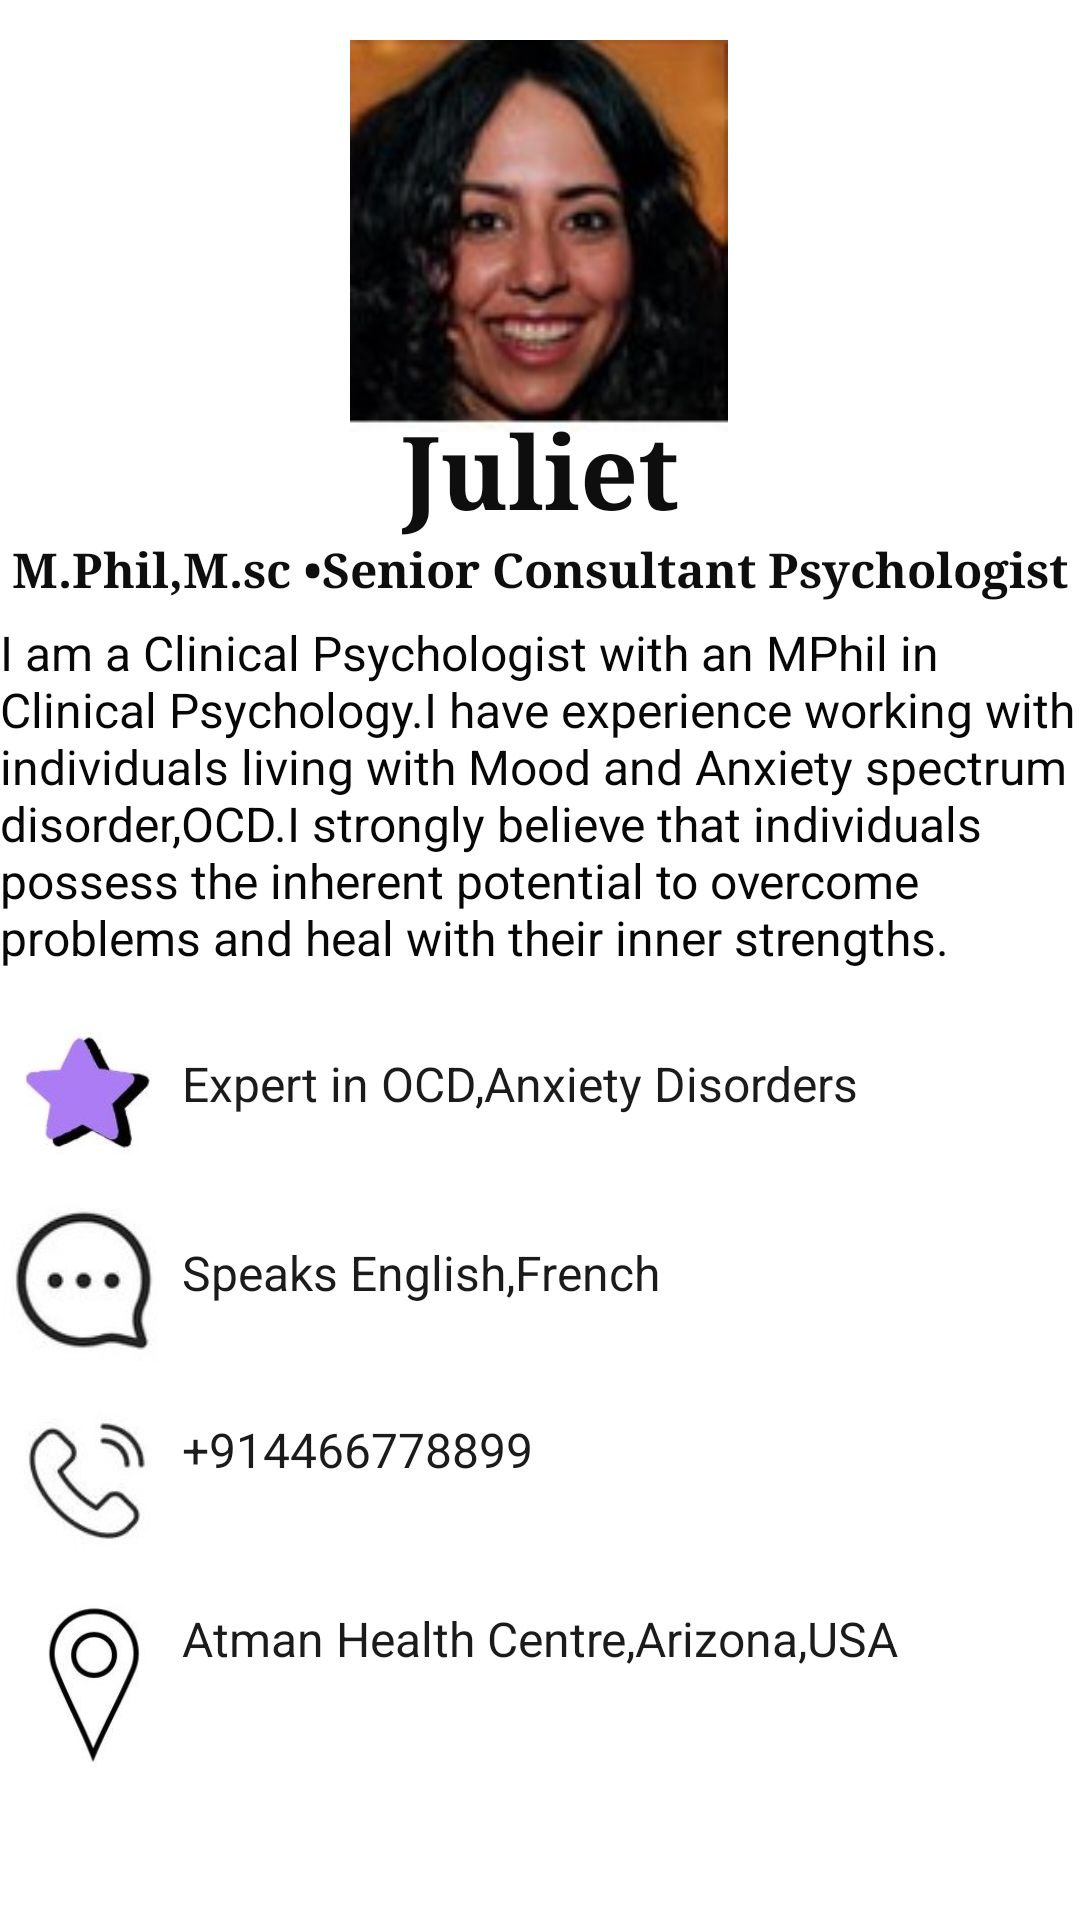

Point at icon controls on the screen. Image size 1080 × 1920, points as (x,y).
chat: (84,1281)
loc: (94,1685)
